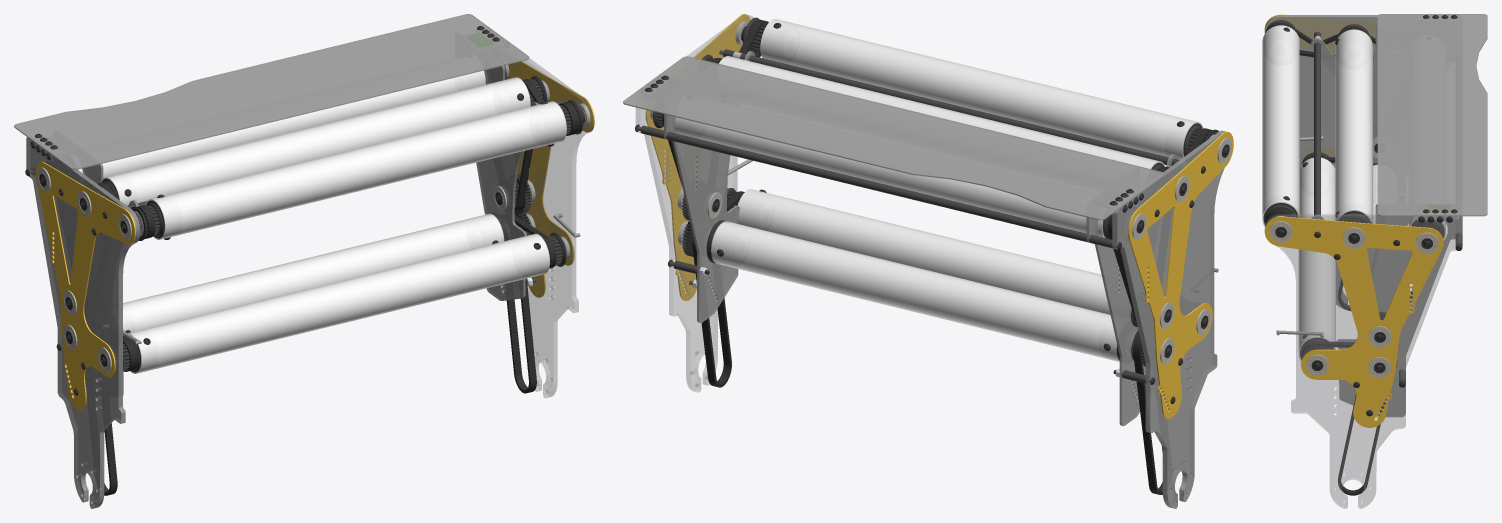
The picture shows the model from 3 angles, left to right: view 1: azimuth 30°, elevation 25°; view 2: azimuth 150°, elevation 25°; view 3: azimuth 270°, elevation 25°; orthographic projection. The views are drawn at different scales.
Parts seen in each view (by area): view 1: C-Intake109_0063_Polycarbonate_1_2026, Deadaxle Tube_22.805_in (×2), Deadaxle Tube_22.68_in, Deadaxle Tube_22.305_in, C-Intake106_1/4_Polycarbonate_1_2026, Deadaxle Tube_21.43_in, C-Intake101_063_AL-6061_1_2026 (×2), C-Intake105_1/4_Polycarbonate_1_2026, C-Intake109_013_Polycarbonate_1_2026, 129T 5M 9mm Wide Belt (×2), 149T 5M 9mm Wide Belt; view 2: C-Intake109_0063_Polycarbonate_1_2026, Deadaxle Tube_21.43_in, Deadaxle Tube_22.305_in, Deadaxle Tube_22.68_in, C-Intake106_1/4_Polycarbonate_1_2026, Deadaxle Tube_22.805_in (×2), C-Intake101_063_AL-6061_1_2026 (×2), C-Intake109_013_Polycarbonate_1_2026 (×2), C-Intake105_1/4_Polycarbonate_1_2026, 22.2 in. Round Spacer, 23.158 in. Round Spacer, 129T 5M 9mm Wide Belt (×2) (+1 smaller); view 3: C-Intake109_0063_Polycarbonate_1_2026, C-Intake105_1/4_Polycarbonate_1_2026, C-Intake101_063_AL-6061_1_2026 (×2), Deadaxle Tube_22.805_in, Deadaxle Tube_22.305_in, C-Intake109_013_Polycarbonate_1_2026 (×2), Deadaxle Tube_22.68_in, C-Intake106_1/4_Polycarbonate_1_2026, 1/2" Rounded Hex (13.75mm) ID Bearing (1.125" OD, 0.313" WD, (×6), 23.158 in. Round Spacer, 129T 5M 9mm Wide Belt, 149T 5M 9mm Wide Belt (×2) (+1 smaller).
Part boxes in pixels (x1,y1,x2,y2): C-Intake109_0063_Polycarbonate_1_2026: (14, 14, 529, 169); Deadaxle Tube_22.805_in (×2): (78, 70, 530, 205); Deadaxle Tube_22.68_in: (124, 233, 549, 373); Deadaxle Tube_22.305_in: (145, 101, 566, 239); C-Intake106_1/4_Polycarbonate_1_2026: (26, 137, 140, 508); Deadaxle Tube_21.43_in: (123, 213, 504, 332); C-Intake101_063_AL-6061_1_2026 (×2): (35, 61, 594, 409); C-Intake105_1/4_Polycarbonate_1_2026: (505, 58, 593, 397); C-Intake109_013_Polycarbonate_1_2026: (476, 46, 538, 300); 129T 5M 9mm Wide Belt (×2): (104, 215, 556, 495); 149T 5M 9mm Wide Belt: (514, 79, 578, 211); C-Intake109_0063_Polycarbonate_1_2026: (623, 56, 1164, 220); Deadaxle Tube_21.43_in: (711, 221, 1119, 361); Deadaxle Tube_22.305_in: (760, 19, 1203, 159); Deadaxle Tube_22.68_in: (737, 189, 1110, 314); C-Intake106_1/4_Polycarbonate_1_2026: (1112, 130, 1225, 508); Deadaxle Tube_22.805_in (×2): (675, 56, 1165, 237); C-Intake101_063_AL-6061_1_2026 (×2): (645, 14, 1233, 418); C-Intake109_013_Polycarbonate_1_2026 (×2): (664, 51, 1177, 426); C-Intake105_1/4_Polycarbonate_1_2026: (636, 14, 753, 392); 22.2 in. Round Spacer: (666, 132, 1089, 242); 23.158 in. Round Spacer: (740, 53, 1179, 165); 129T 5M 9mm Wide Belt (×2): (692, 191, 1162, 494); C-Intake109_0063_Polycarbonate_1_2026: (1377, 14, 1487, 216); C-Intake105_1/4_Polycarbonate_1_2026: (1265, 214, 1462, 508); C-Intake101_063_AL-6061_1_2026 (×2): (1264, 14, 1443, 427); Deadaxle Tube_22.805_in: (1335, 29, 1372, 222); Deadaxle Tube_22.305_in: (1262, 25, 1299, 226); C-Intake109_013_Polycarbonate_1_2026 (×2): (1310, 27, 1462, 417); Deadaxle Tube_22.68_in: (1298, 157, 1335, 361); C-Intake106_1/4_Polycarbonate_1_2026: (1264, 15, 1458, 309); 1/2" Rounded Hex (13.75mm) ID Bearing (1.125" OD, 0.313" WD, (×6): (1269, 221, 1438, 378); 23.158 in. Round Spacer: (1314, 42, 1320, 215); 129T 5M 9mm Wide Belt: (1302, 341, 1386, 495); 149T 5M 9mm Wide Belt (×2): (1266, 22, 1442, 302).
Size of the model in its own units: 0.6583 by 0.443 by 0.3055.
